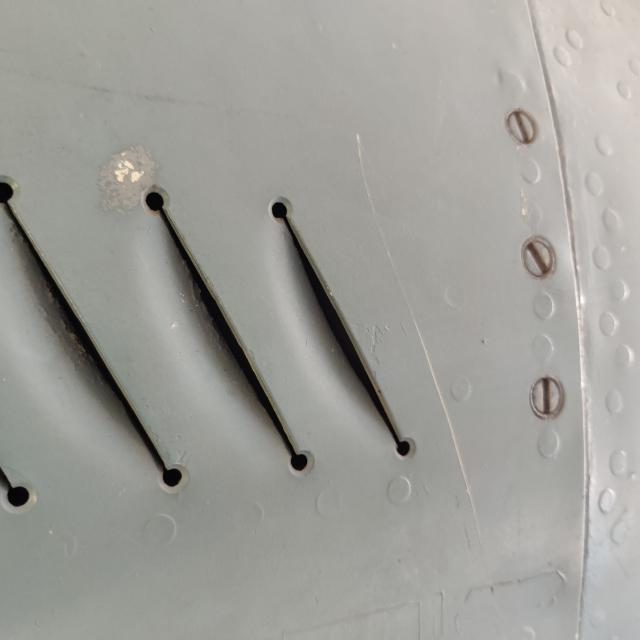Scratch: (344, 117, 501, 546)
